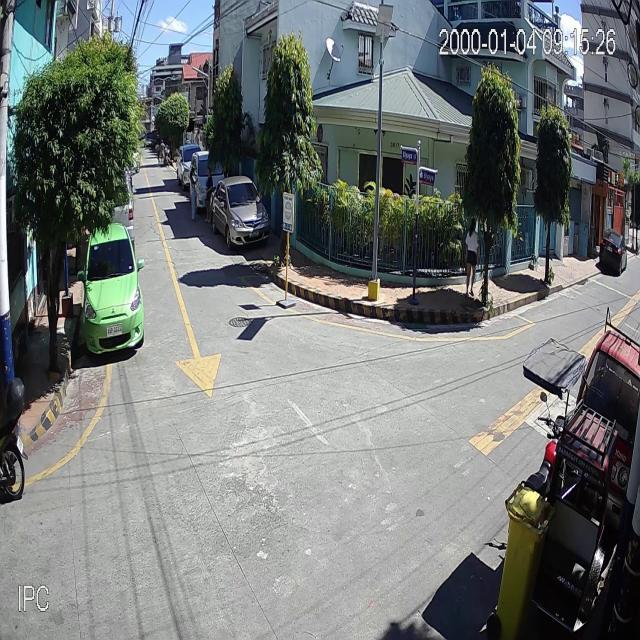standing: (188, 166, 201, 221)
walking: (462, 220, 480, 300), (204, 166, 215, 223), (159, 139, 166, 165)
